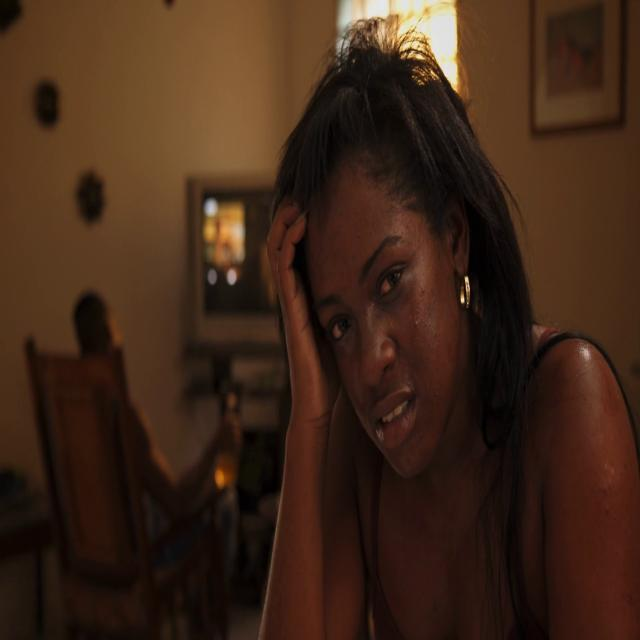sem_oculos: (307, 240, 458, 343)
